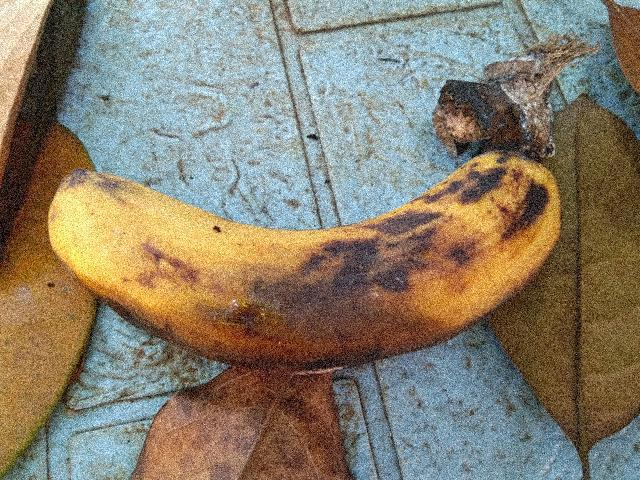rotten: (34, 139, 574, 391)
